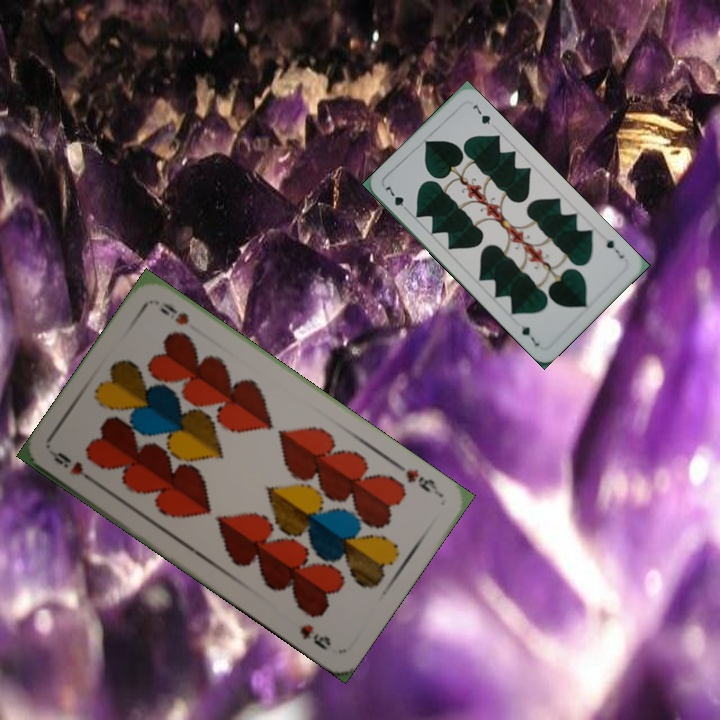G7: (381, 181, 412, 214), (602, 235, 627, 261)
H9: (48, 447, 100, 488), (392, 459, 445, 499)
